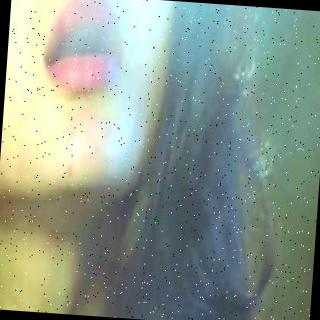smoke: (109, 0, 320, 130)
